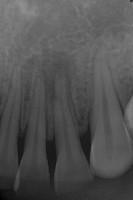Furcation Involvement: (20, 37, 76, 107)
